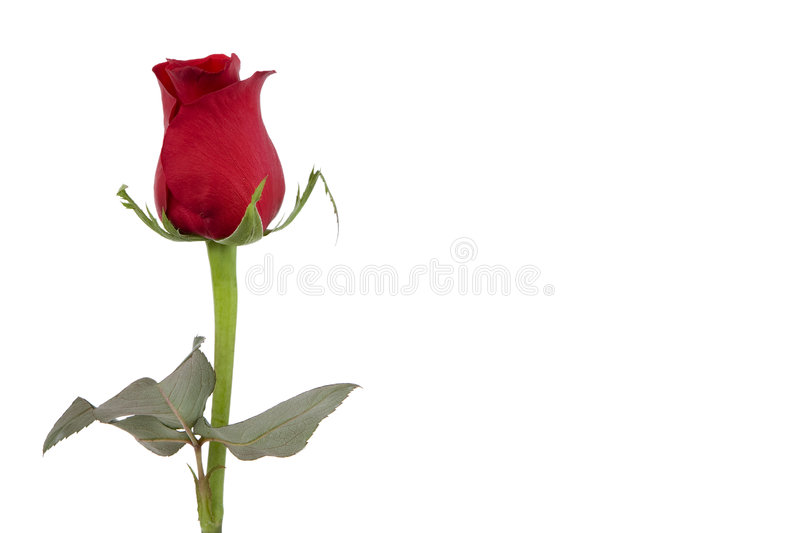RedRose: (121, 12, 321, 262)
